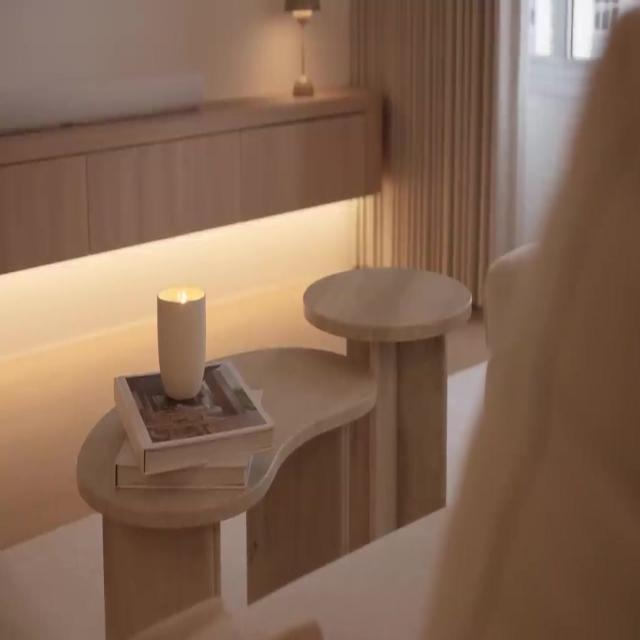obstacle: (75, 344, 377, 638), (0, 84, 383, 274), (302, 264, 472, 544)
person: (418, 6, 640, 638)
